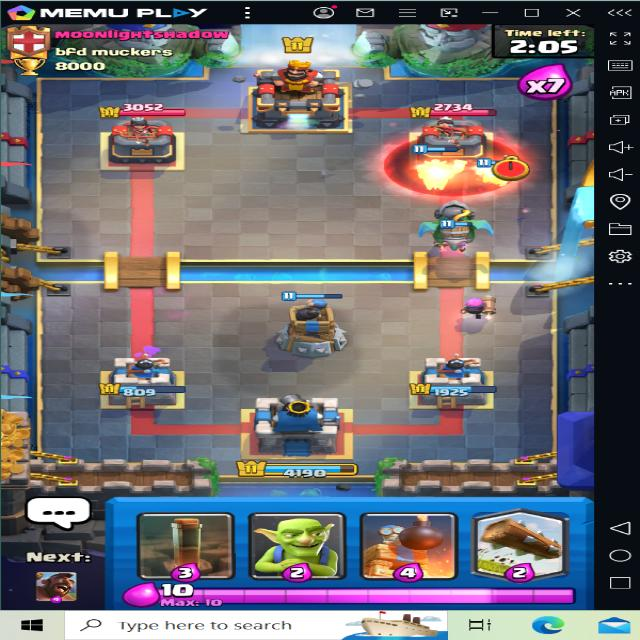Void: (387, 130, 521, 195)
